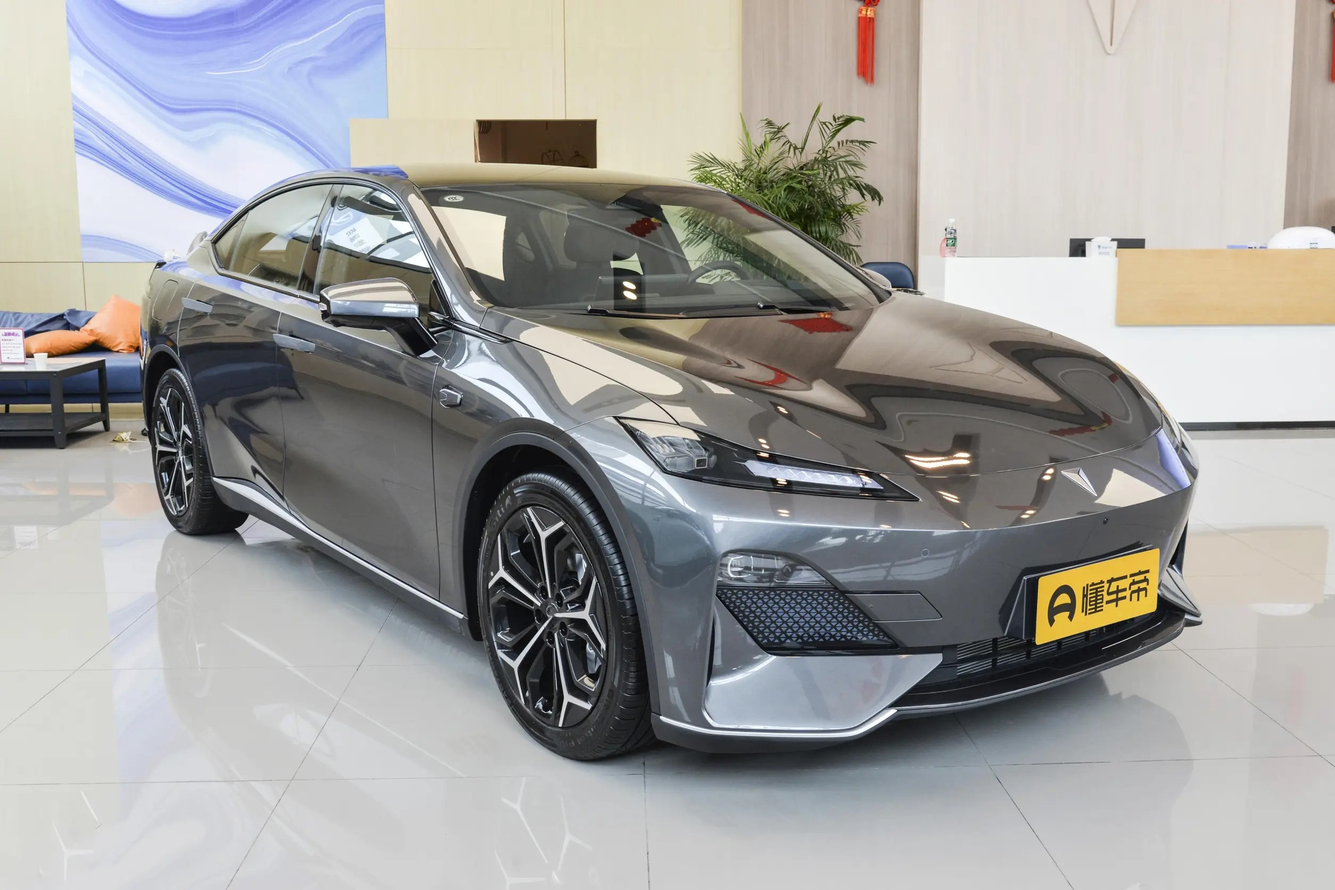Deepal: (1061, 467, 1097, 496)
